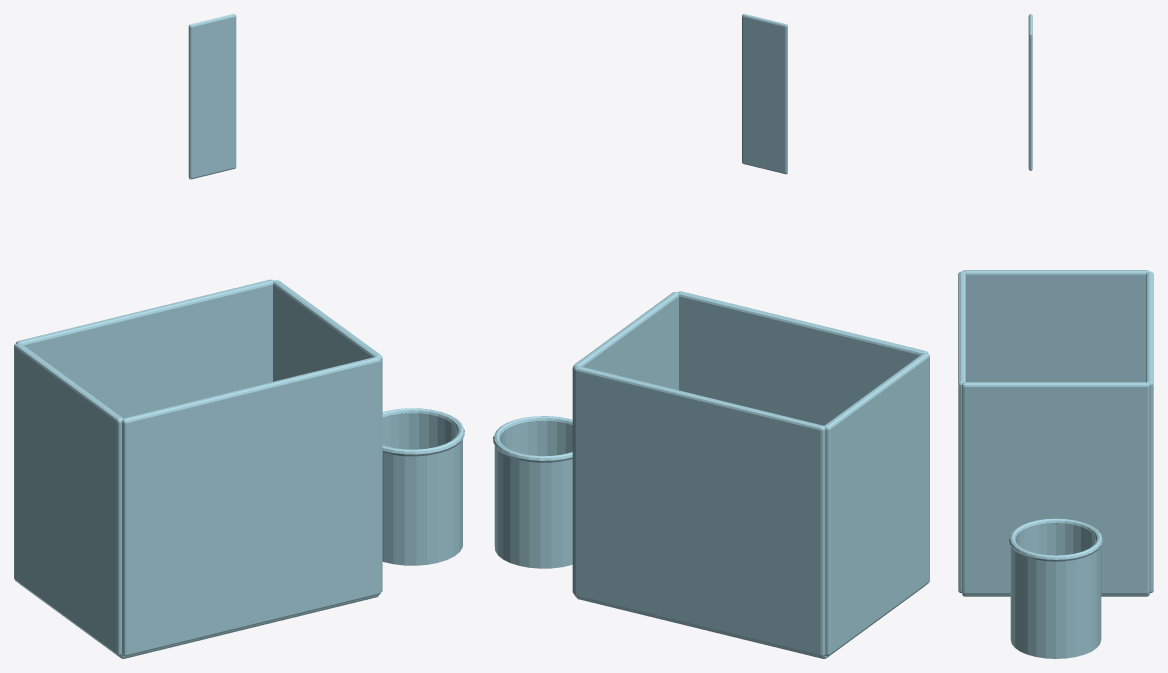
The model's file is 3_glass.obj.
3 views of the same model, side by side, from view 1: azimuth 30°, elevation 25°; view 2: azimuth 150°, elevation 25°; view 3: azimuth 270°, elevation 25° (orthographic). The views are drawn at different scales.
Bounding box in the file's own units: 1.25 × 1.78 × 0.604.
